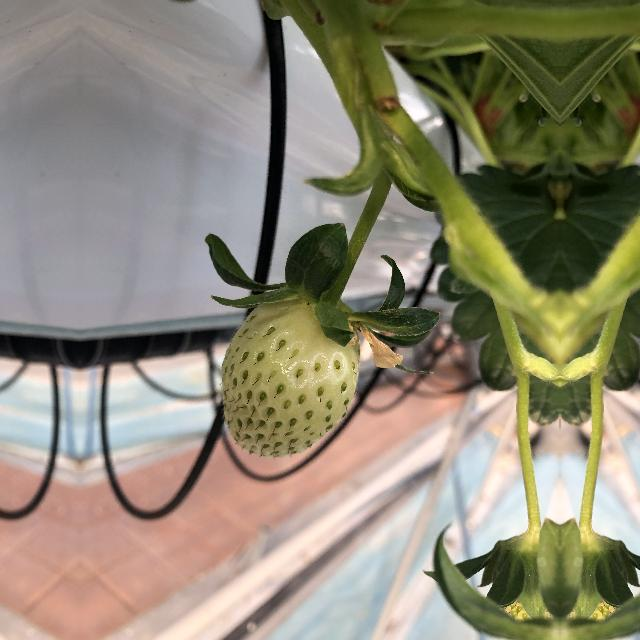Health_25: (210, 290, 372, 462)
